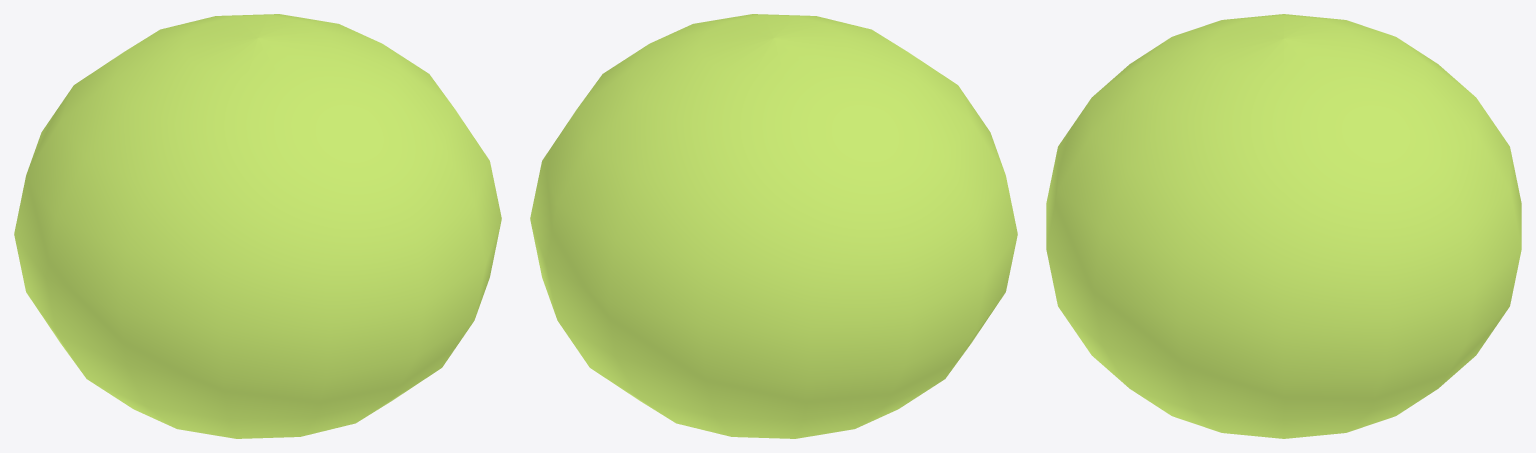
The model's file is blob_vomit.glb.
3 views of the same model, side by side, from view 1: azimuth 30°, elevation 25°; view 2: azimuth 150°, elevation 25°; view 3: azimuth 270°, elevation 25° (orthographic).
Visible parts, largest first — view 1: blob_vomit; view 2: blob_vomit; view 3: blob_vomit.
Boxes of the visible parts, x1=… form: blob_vomit: x1=14, y1=14, x2=501, y2=438; blob_vomit: x1=530, y1=14, x2=1017, y2=438; blob_vomit: x1=1046, y1=14, x2=1521, y2=438.
Size of the model in its own units: 0.032 by 0.0272 by 0.0312.
